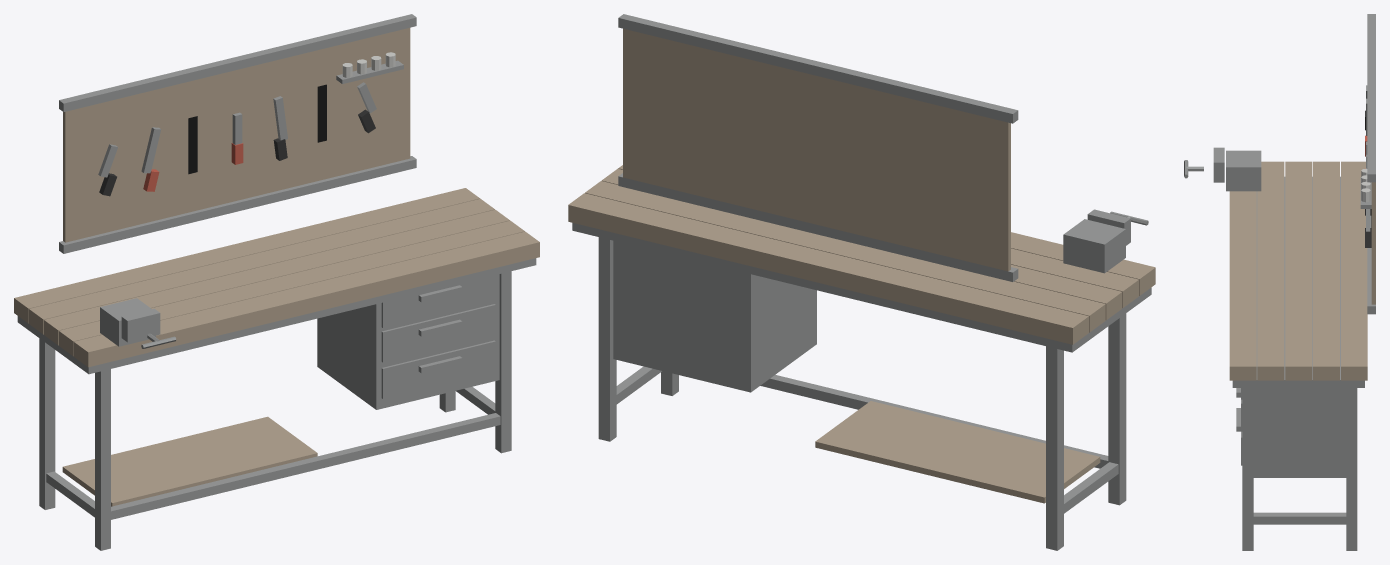
File: workbench.glb
3 views of the same model, side by side, from view 1: azimuth 30°, elevation 25°; view 2: azimuth 150°, elevation 25°; view 3: azimuth 270°, elevation 25° (orthographic). The views are drawn at different scales.
Parts seen in each view (by area): view 1: Workbench; view 2: Workbench; view 3: Workbench.
Part boxes in pixels (x1=…): Workbench: x1=14, y1=14, x2=539, y2=550; Workbench: x1=568, y1=14, x2=1155, y2=550; Workbench: x1=1184, y1=14, x2=1375, y2=550.
Bounding box in the file's own units: 2.2 × 1.82 × 0.87.
